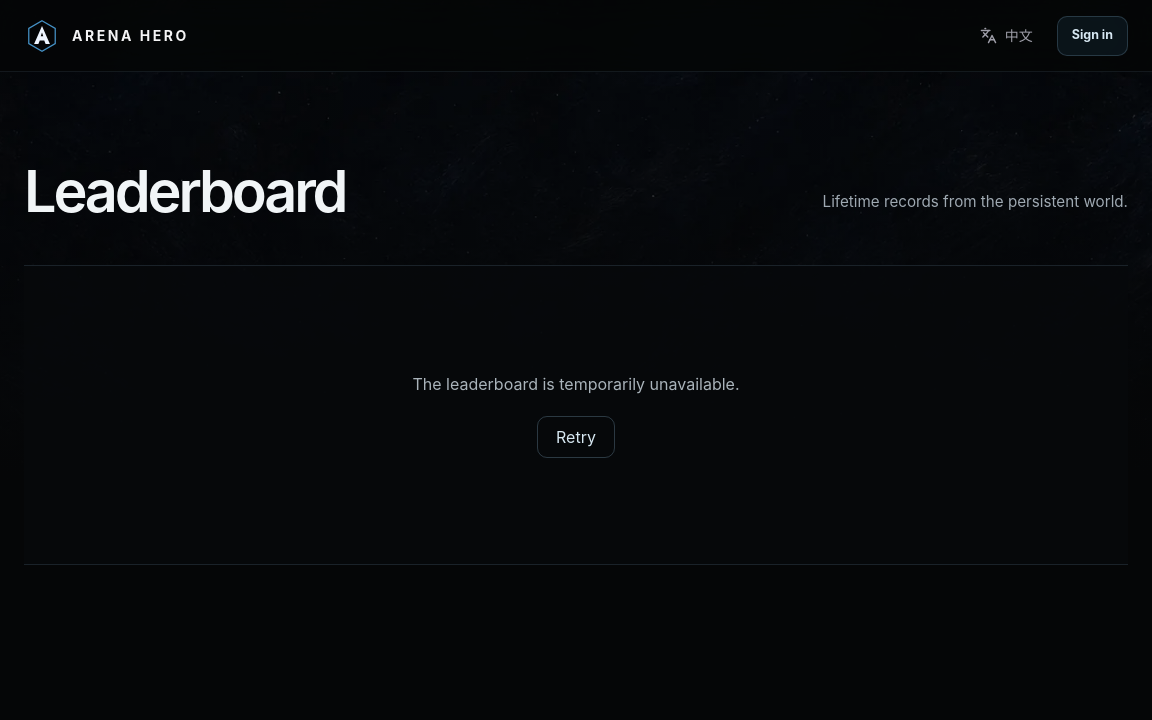
LeaderboardPage › offers a retry when the initial request fails
The width and height of the screenshot is (1152, 720).
Expected: the message shows "The leaderboard is temporarily unavailable.", 412,374 -> 740,394
Click the button "Retry" at (576, 437), box 537,416 -> 615,458
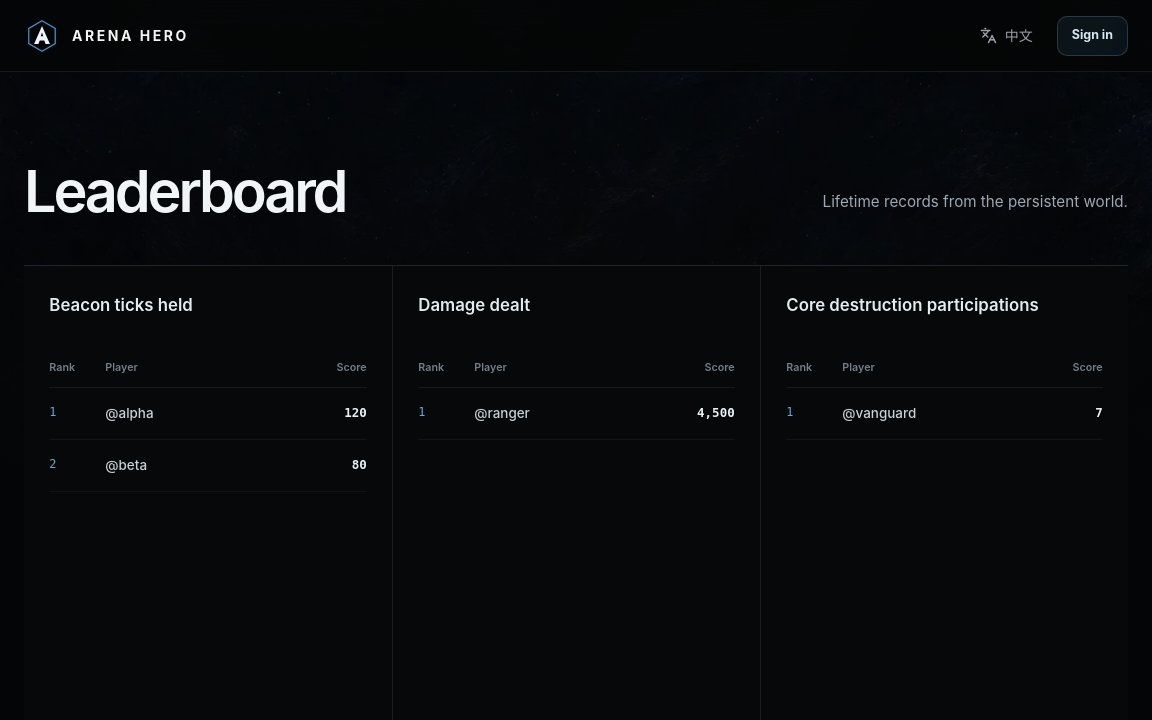
Now the text "@alpha" is shown, box 105,405 -> 154,421
